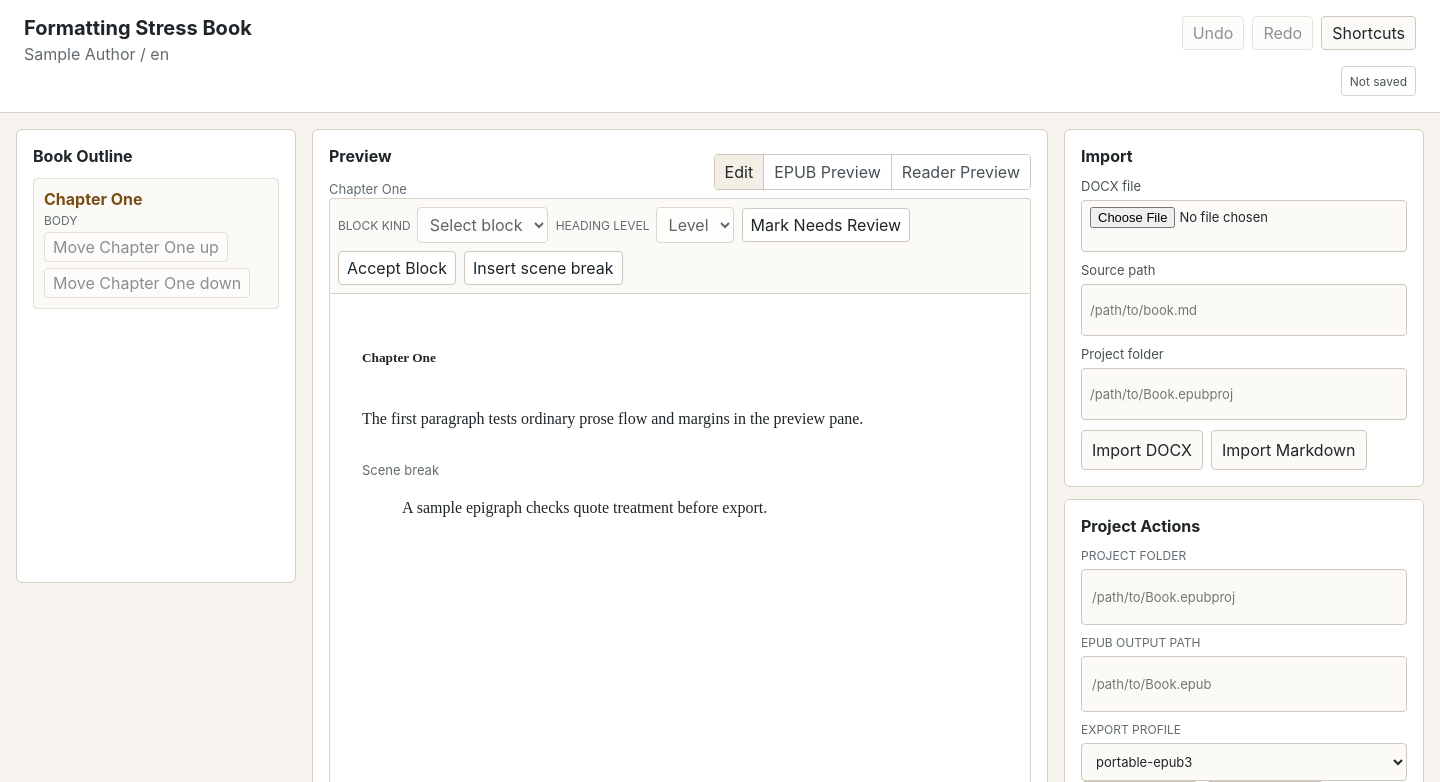
Test: App › renders topbar document actions and opens the shortcuts dialog
This screenshot has width=1440, height=782.
Check: the button "Undo" is disabled, box [1182,16,1244,50]
Check: the button "Redo" is disabled, box [1252,16,1313,50]
Step 1. Click the button "Shortcuts" → click(1369, 33), box [1321,16,1416,50]
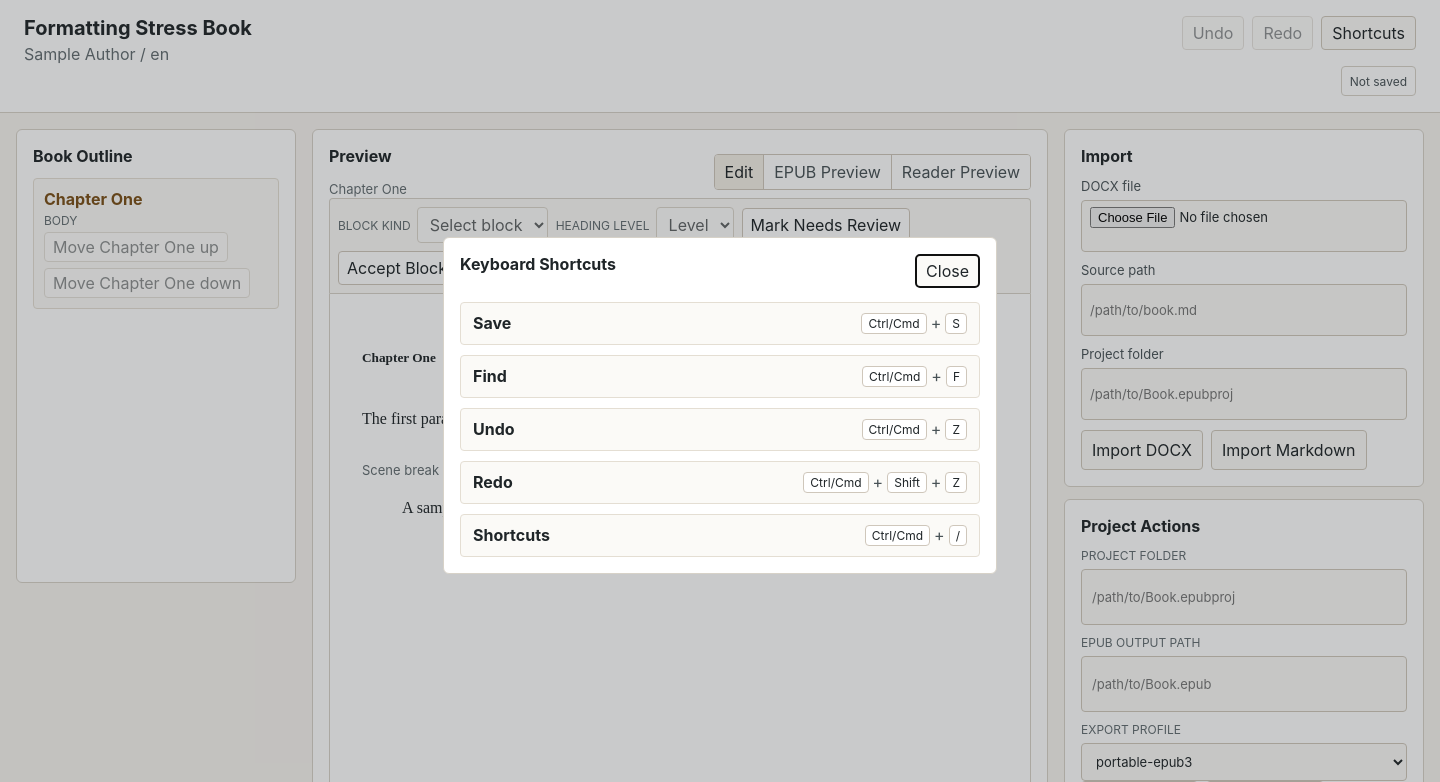
Check: the dialog "Keyboard Shortcuts" is shown, box [443,236,997,574]
Step 2. Click the button with aria-label "Close shortcuts dialog" → click(948, 270), box [915,254,980,288]
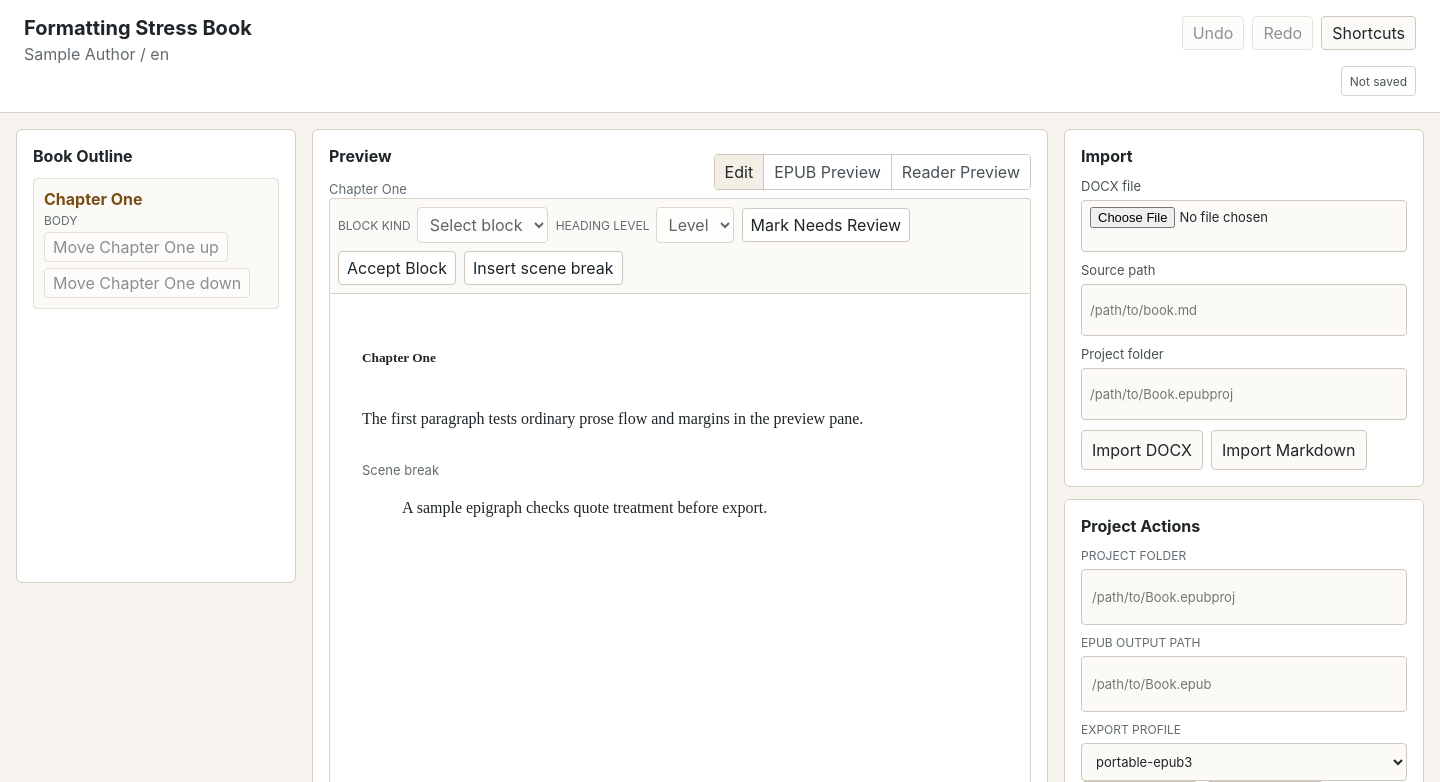
Check: the heading "Keyboard Shortcuts" is gone
Step 3. Press /
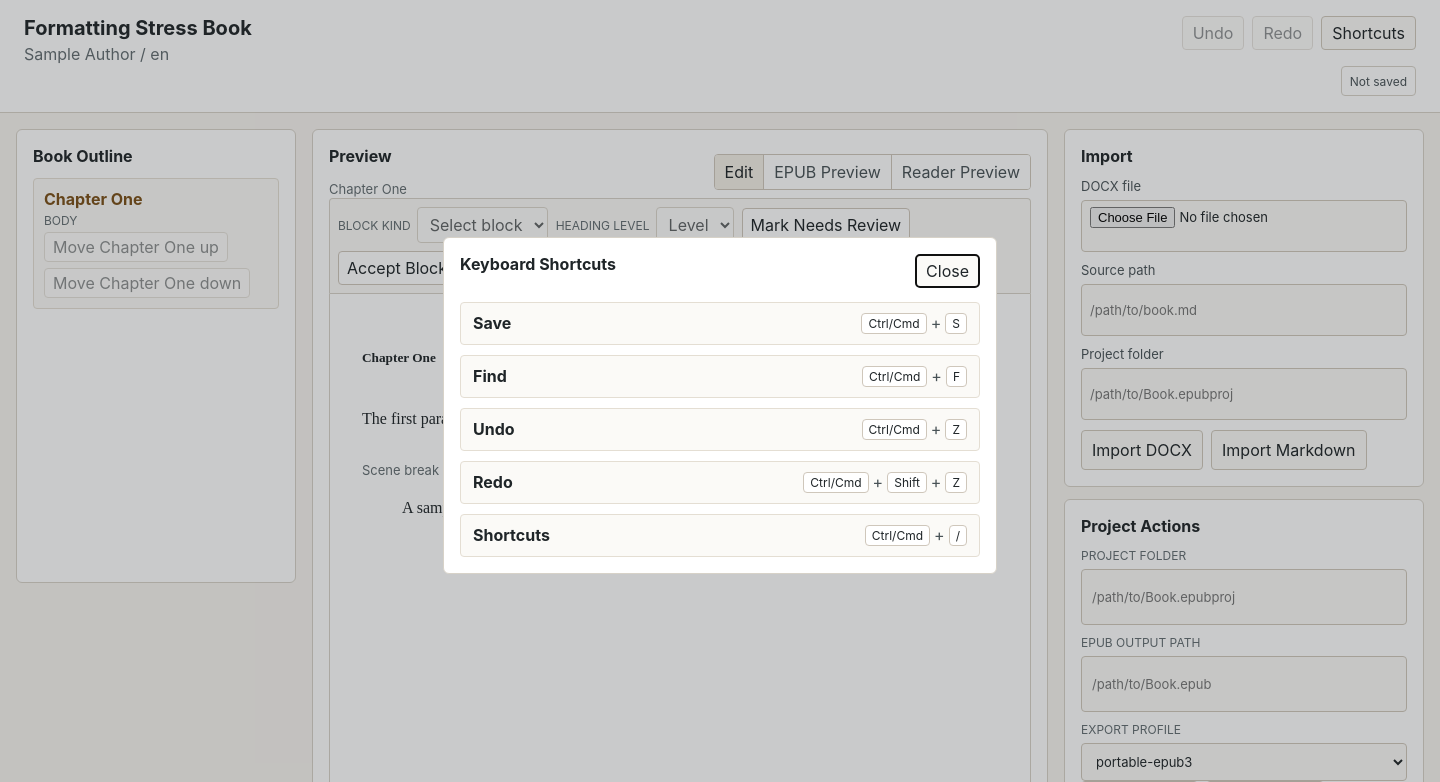
Check: the dialog "Keyboard Shortcuts" is shown, box [443,236,997,574]
